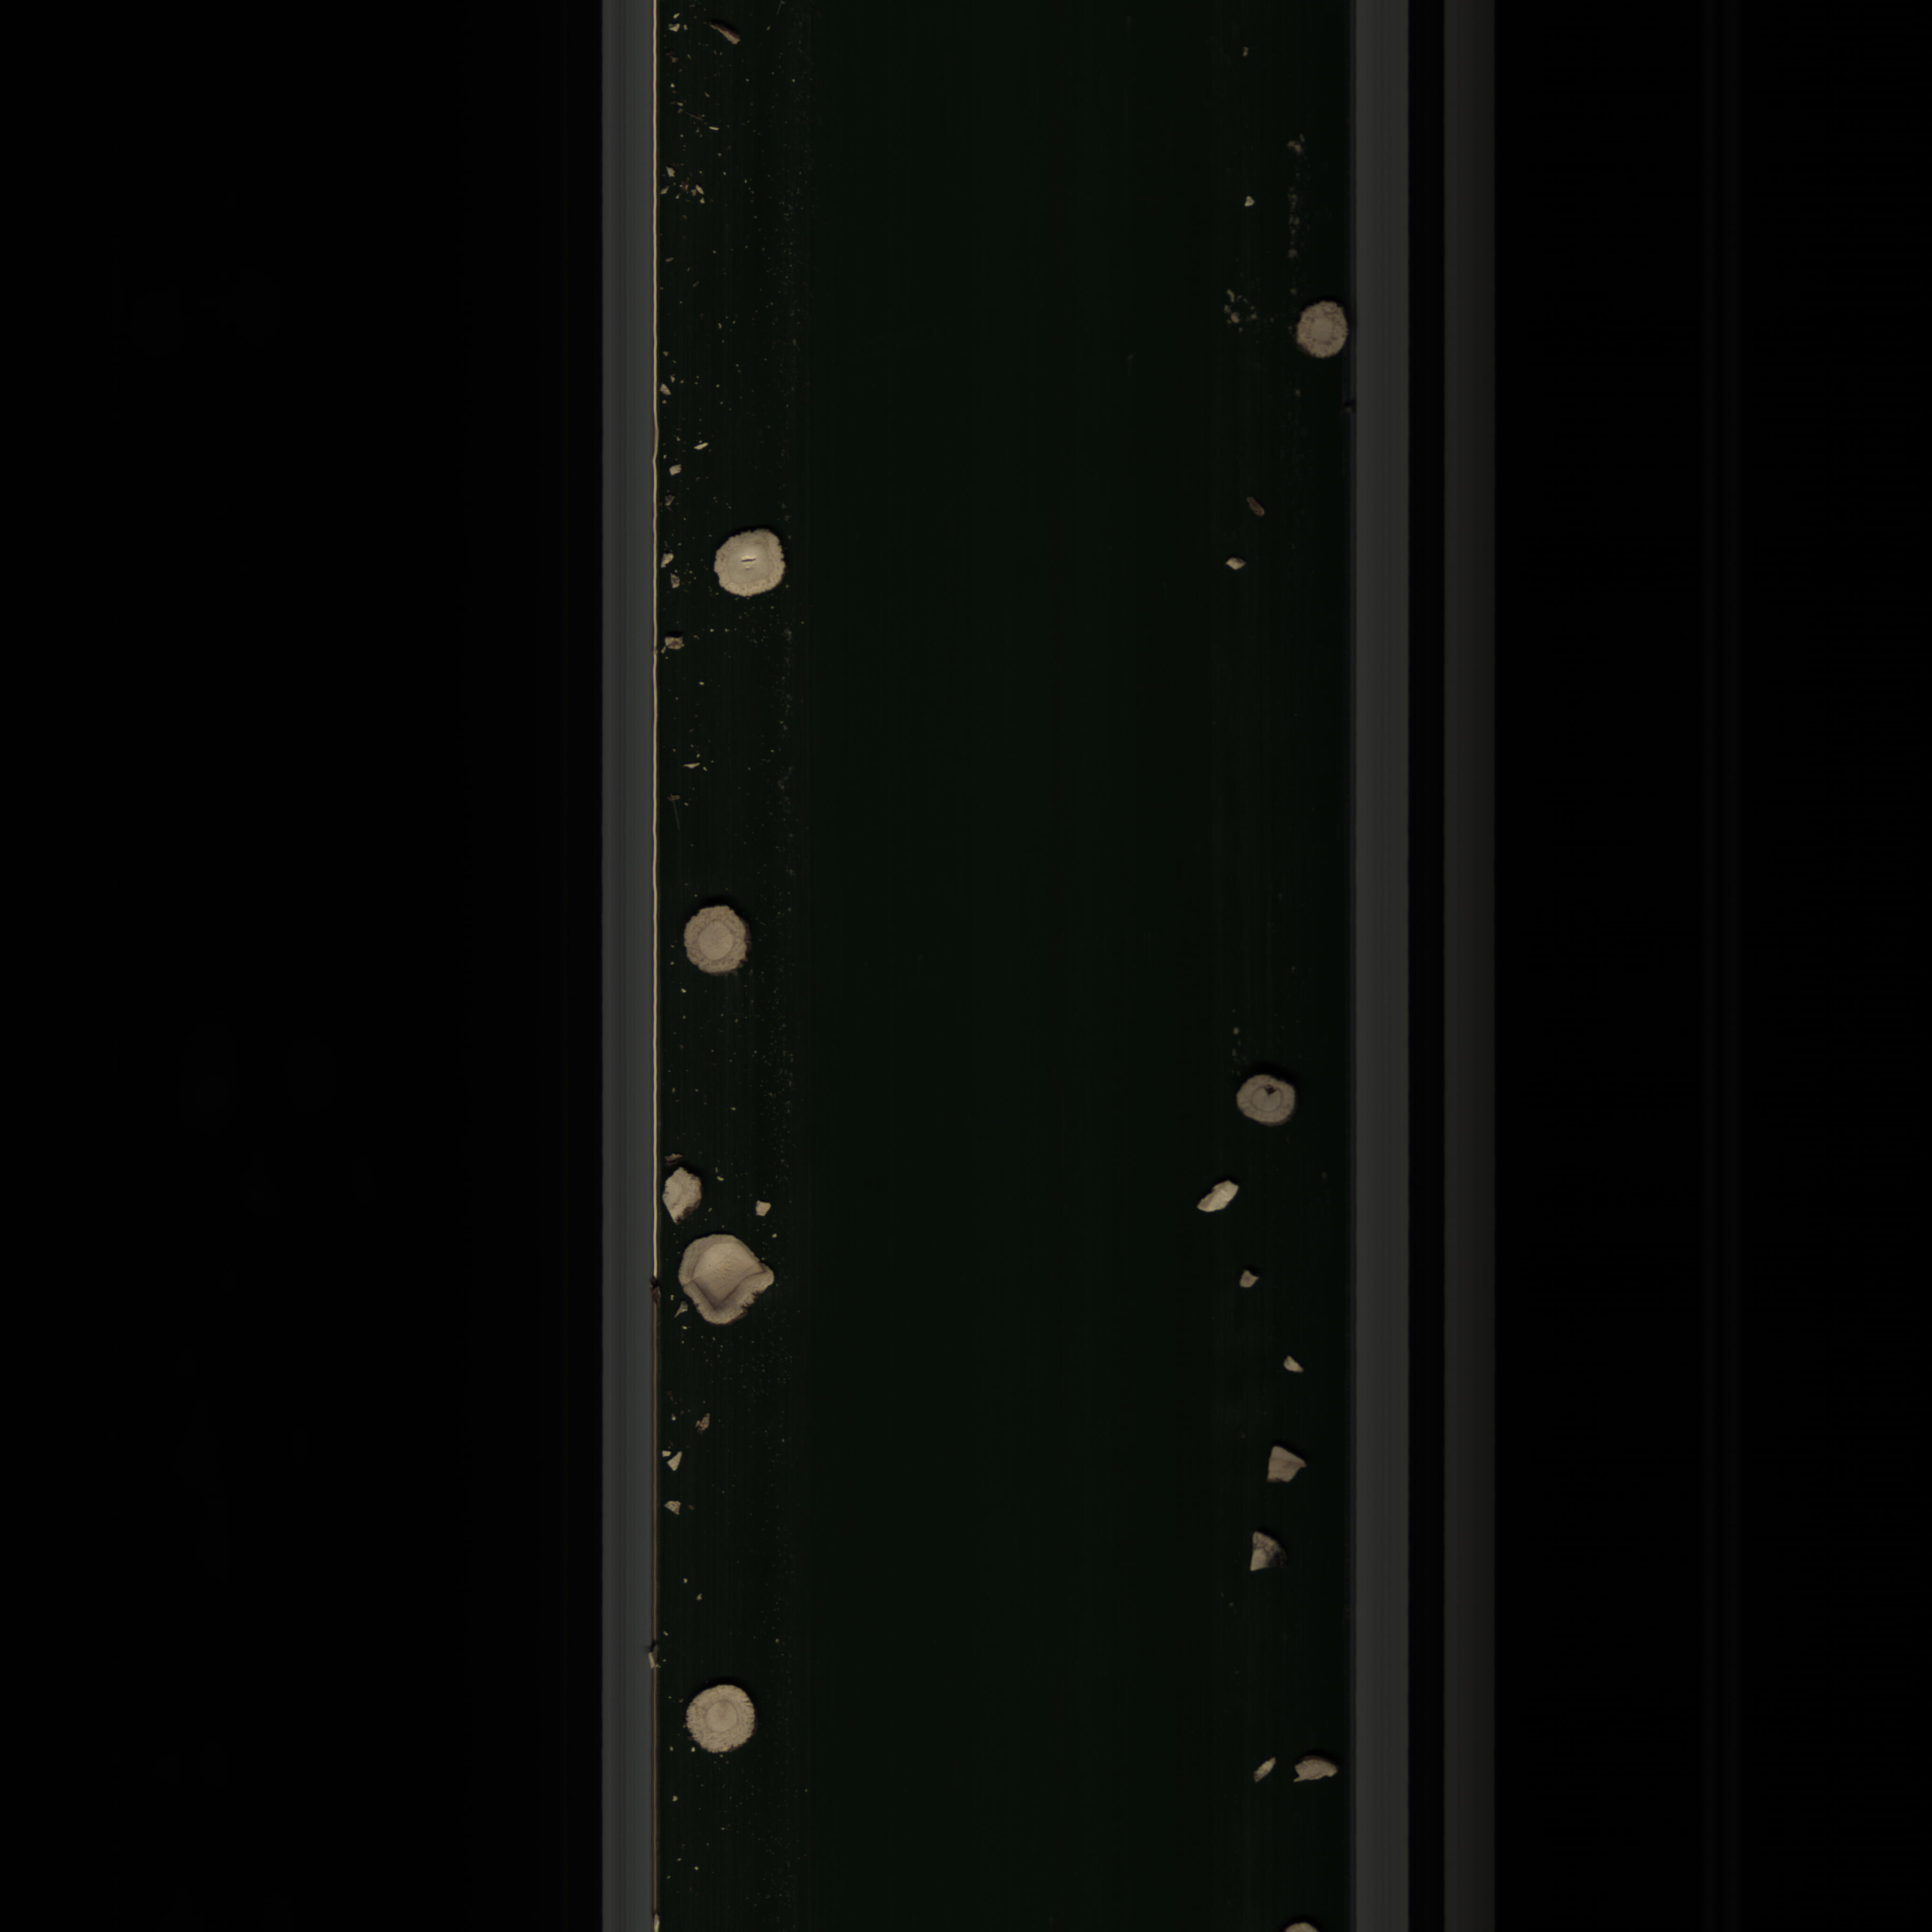debris: (662, 1162, 711, 1226), (1246, 1523, 1286, 1582), (1261, 1440, 1307, 1490), (1194, 1177, 1247, 1219), (1290, 1752, 1345, 1790), (1274, 1350, 1311, 1384), (1230, 1267, 1269, 1295), (1247, 1750, 1277, 1783)
distortion: (672, 1230, 778, 1341)
hole: (1228, 1063, 1302, 1136)
moldy: (1292, 294, 1350, 372)
